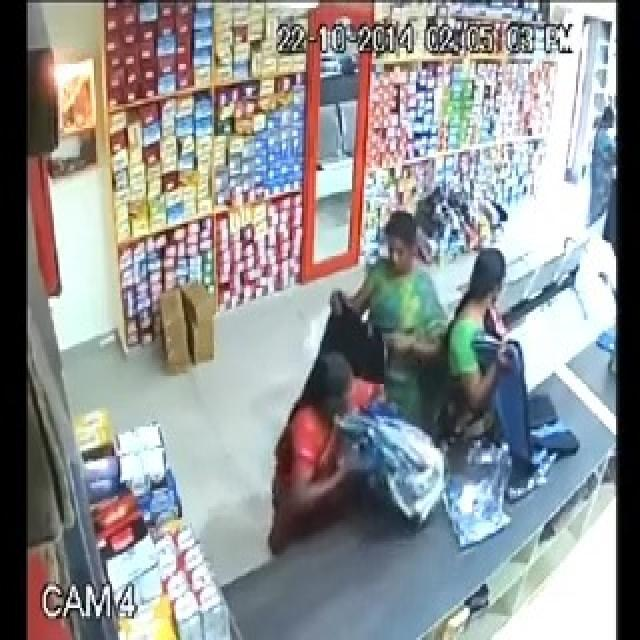Normal: (442, 237, 580, 561), (254, 350, 454, 572), (326, 194, 456, 416)
